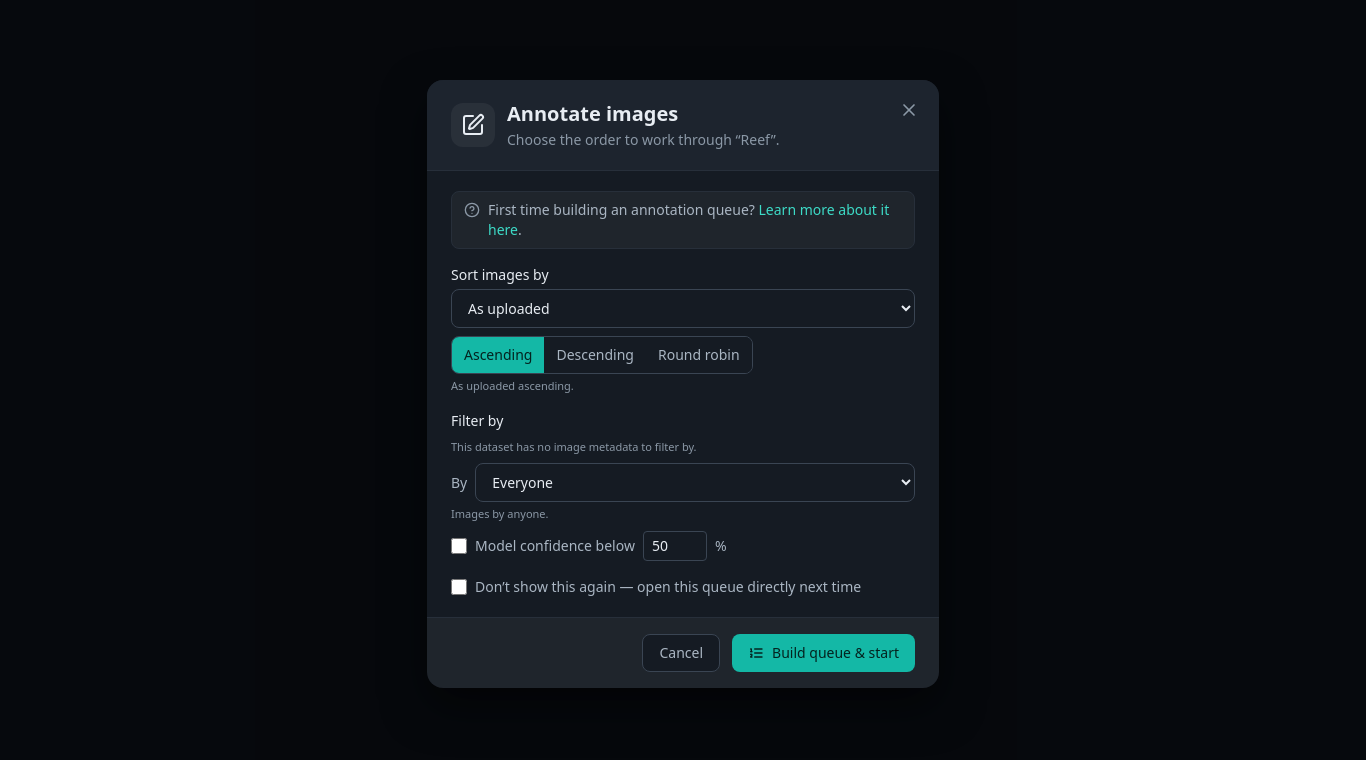
Scenario: a job given up as stale is reported, not built
This screenshot has width=1366, height=760.
Select "Diversity" in the dropdown labelled "Sort images by": (683, 309) [451,289,915,328]
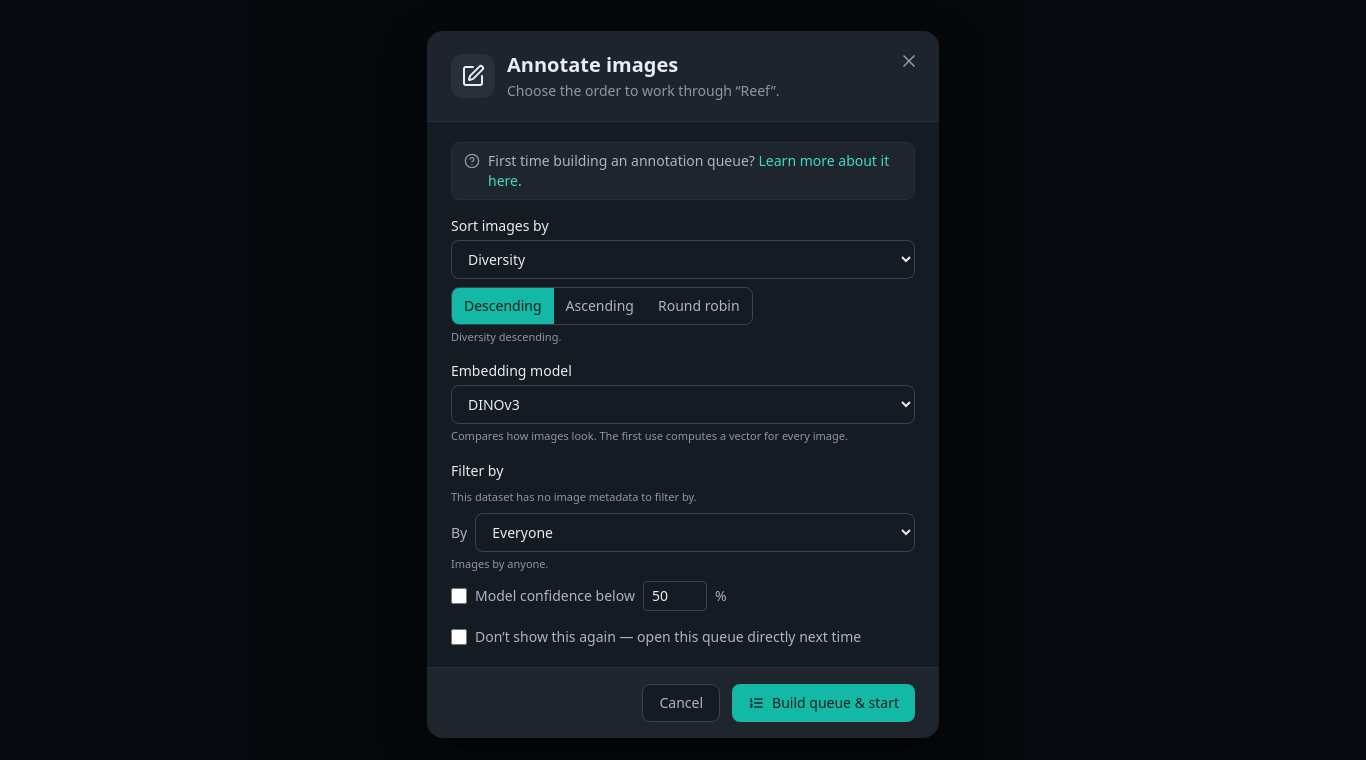
Click the button "Build queue & start": (824, 702) [732,684,915,722]
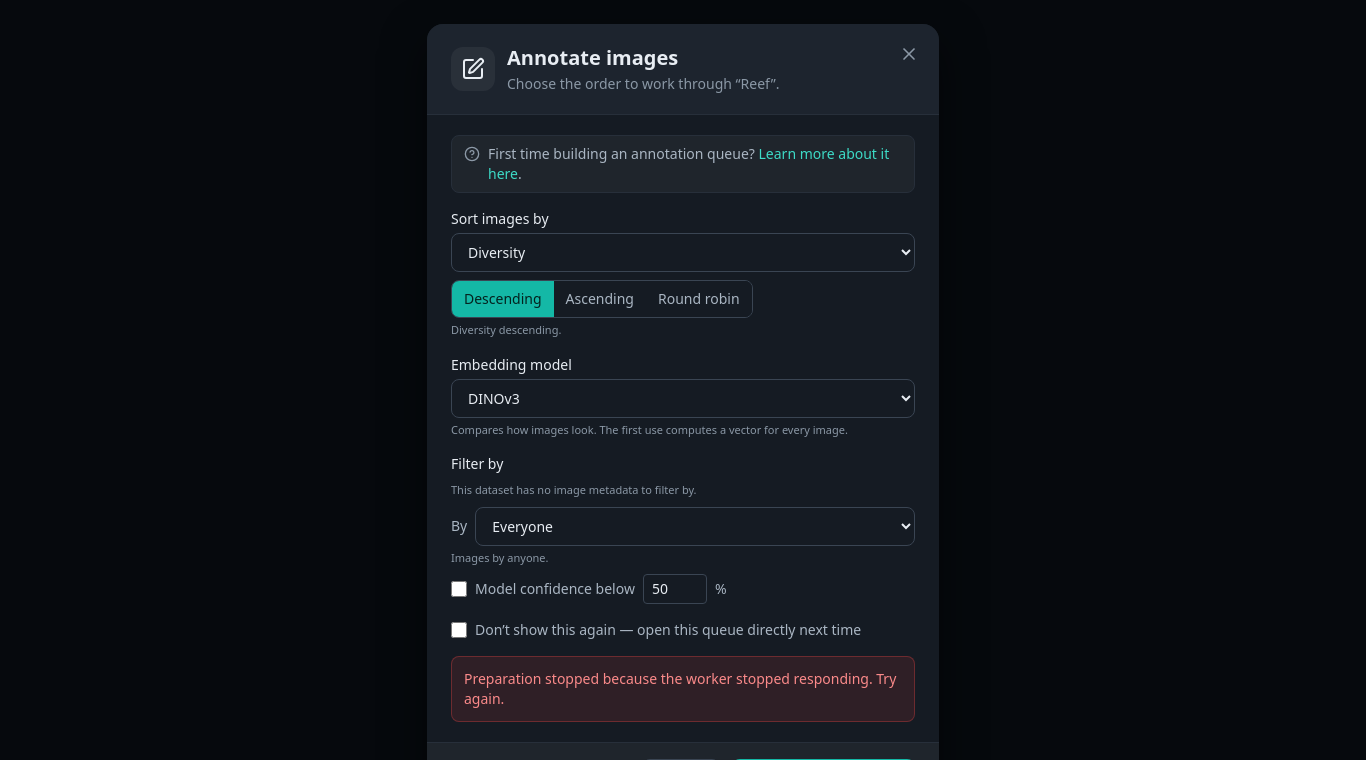
Expected: the text "worker stopped responding" is shown, [464,669,896,708]
